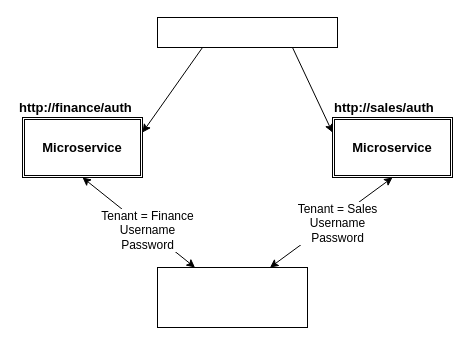
Some shapes in this 470 by 345 pixel diagram are drawn without their labels. Here are the shapes that lost their labels. From the top down, the box of each, then its label:
(156, 16, 338, 48): Load Balancer
(156, 266, 308, 328): Auth Server Micro-service
